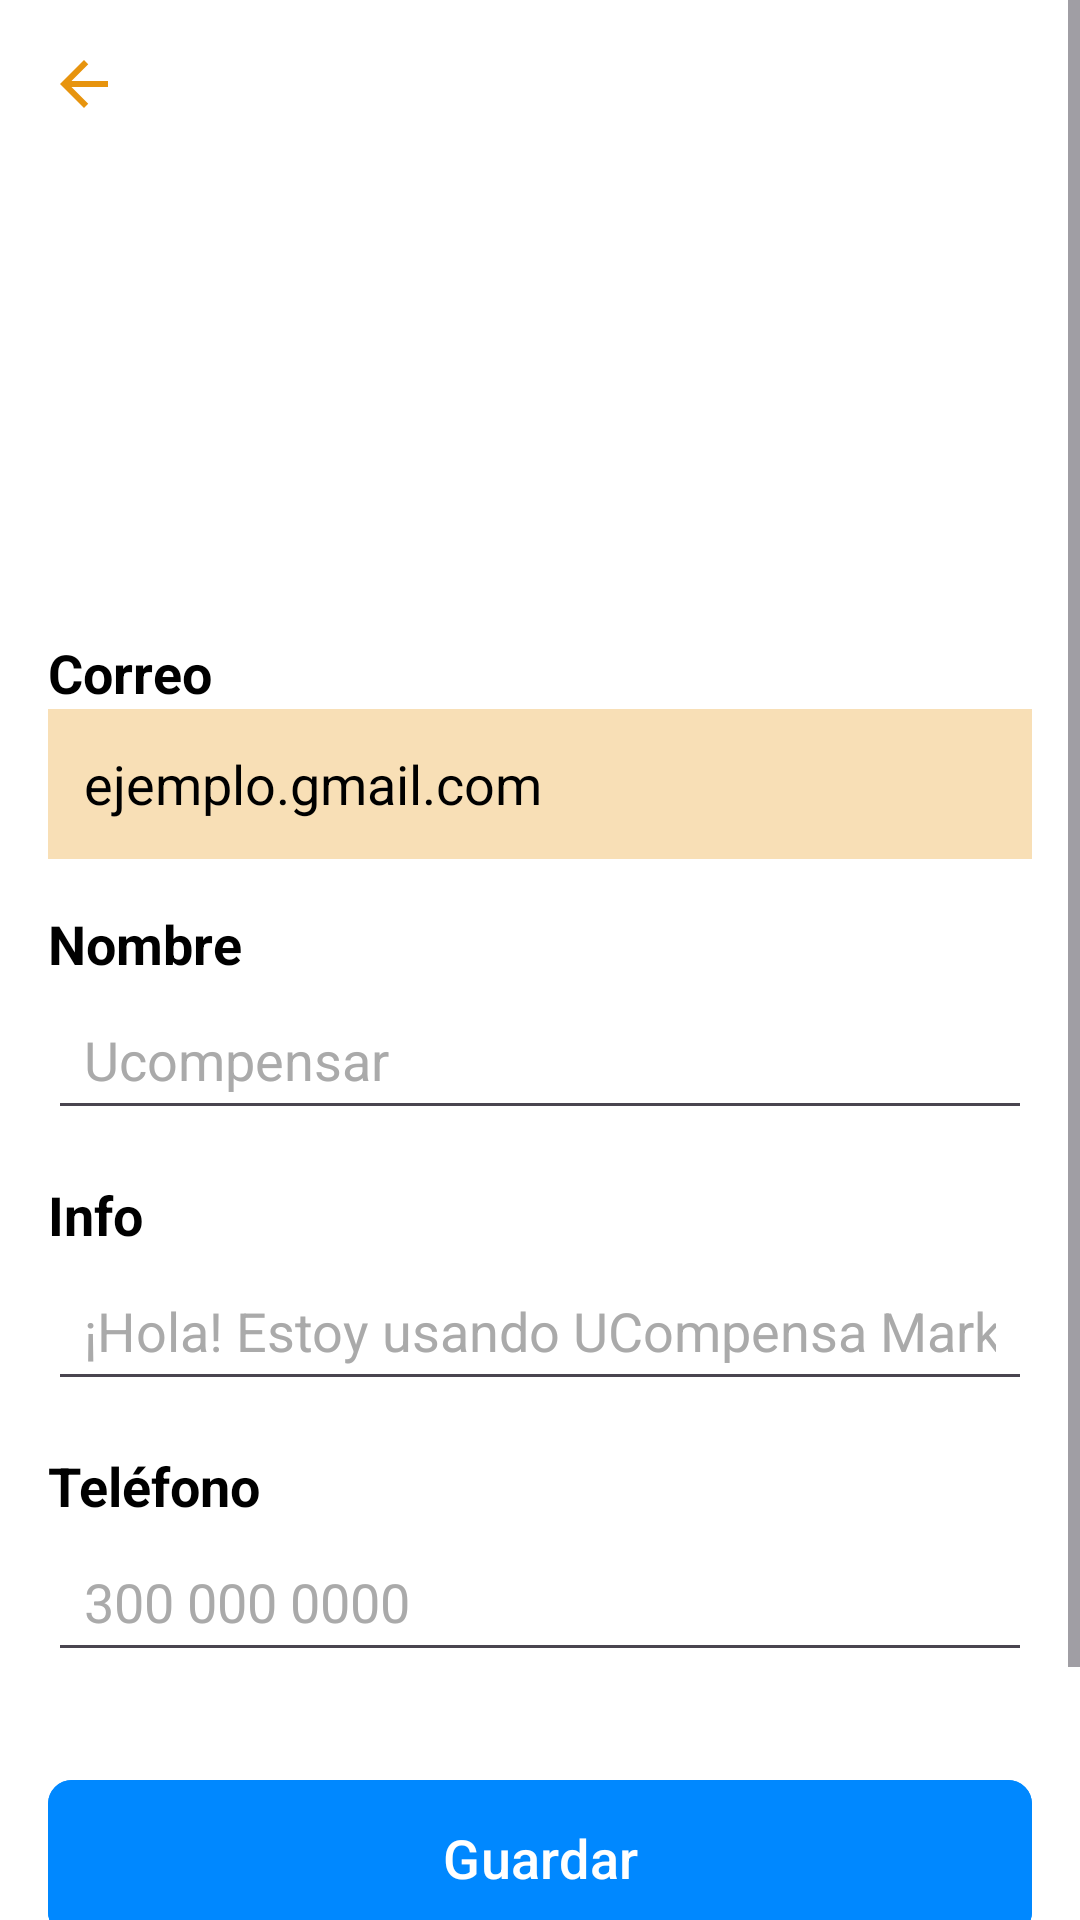

Point at icon controls on the screen. Image size 1080 × 1920, points as point (x, y).
Volver atrás: point (84, 84)
